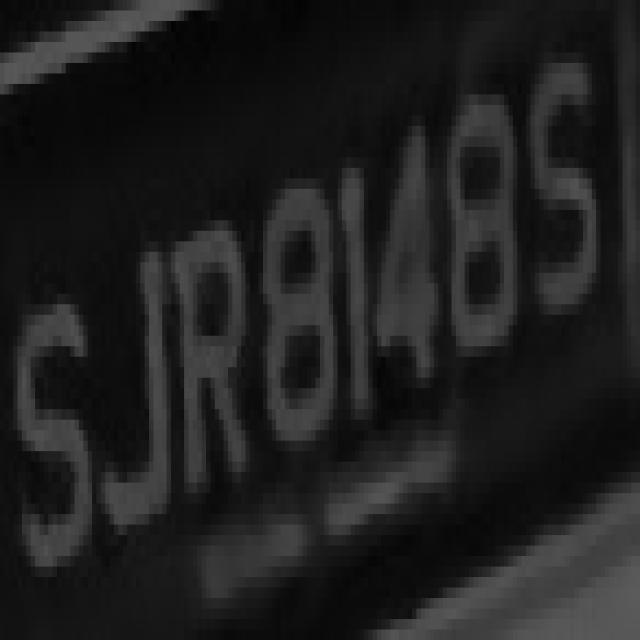1: (324, 137, 377, 430)
4: (364, 105, 443, 409)
8: (250, 178, 342, 483), (438, 63, 513, 388)
J: (79, 210, 184, 535)
R: (158, 178, 245, 524)
S: (517, 31, 614, 336), (13, 262, 101, 598)
